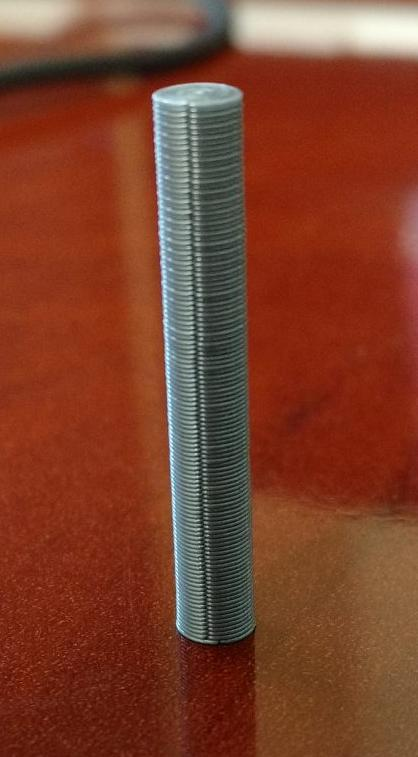under_extrusion: (149, 101, 227, 247)
